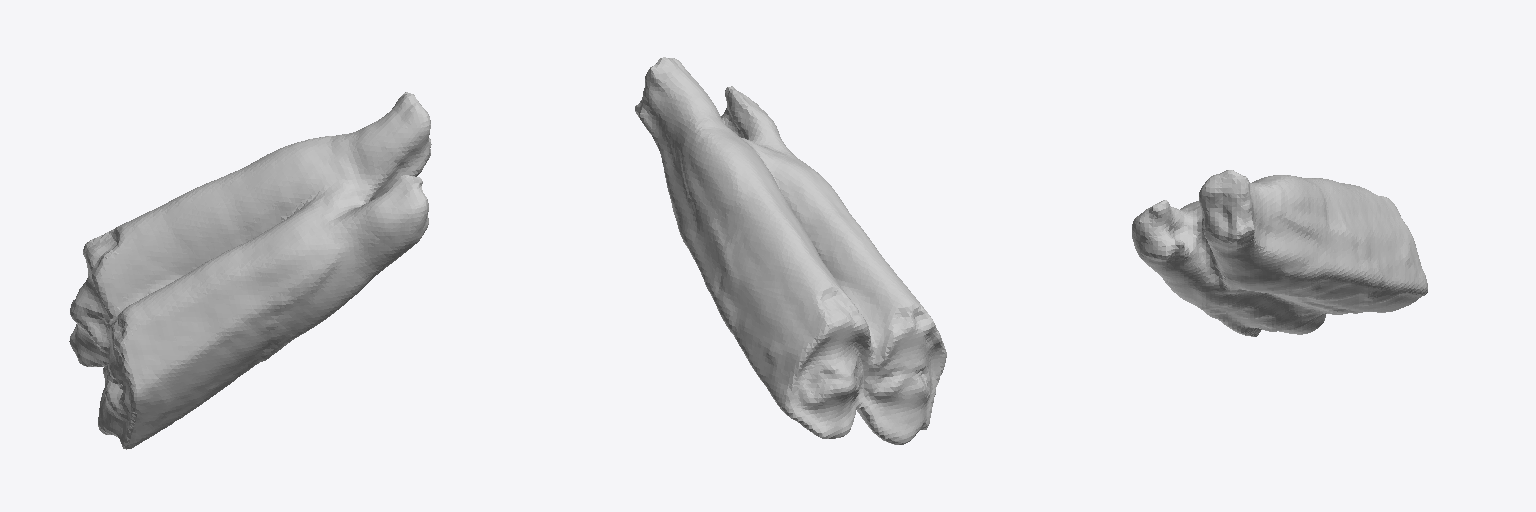
The model's file is MB Ovis 4 M2.obj.
3 renders of one model, left to right at view 1: azimuth 30°, elevation 25°; view 2: azimuth 150°, elevation 25°; view 3: azimuth 270°, elevation 25°, orthographic.
Bounding box in the file's own units: 24.19 × 22.52 × 20.31.